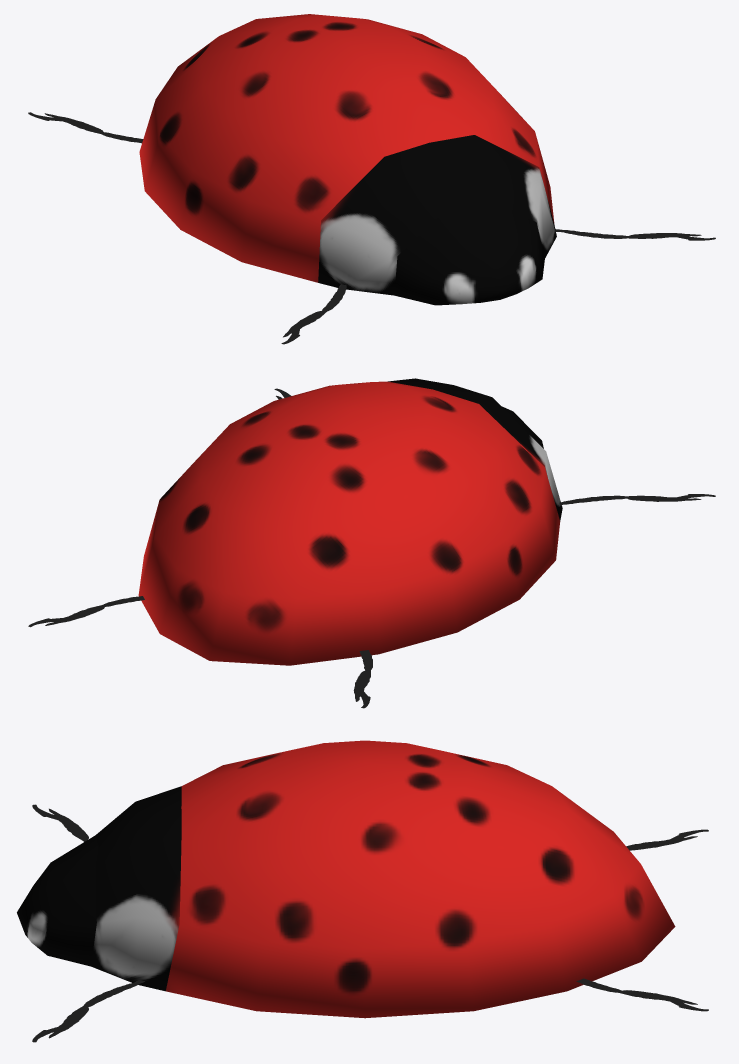
Rendered from Assets2Arthur.fbx_joaninha.fbx.
3 renders of one model, top to bottom at view 1: azimuth 30°, elevation 25°; view 2: azimuth 150°, elevation 25°; view 3: azimuth 270°, elevation 25°, orthographic. The views are drawn at different scales.
Visible parts, largest first — view 1: joaninha; view 2: joaninha; view 3: joaninha.
Part boxes in pixels (left/top/right/bottom): joaninha: left=28, top=14, right=715, bottom=344; joaninha: left=28, top=378, right=715, bottom=708; joaninha: left=17, top=740, right=708, bottom=1042.
Bounding box in the file's own units: 181 × 54.82 × 216.
